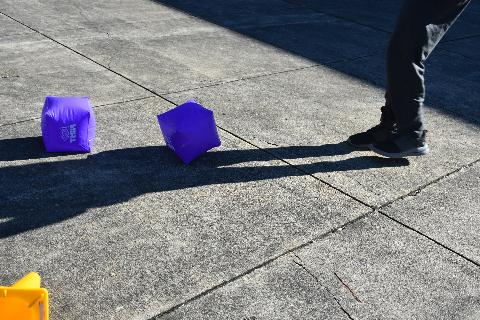cone: (0, 272, 48, 320)
cube: (157, 98, 221, 166), (40, 96, 96, 152)
